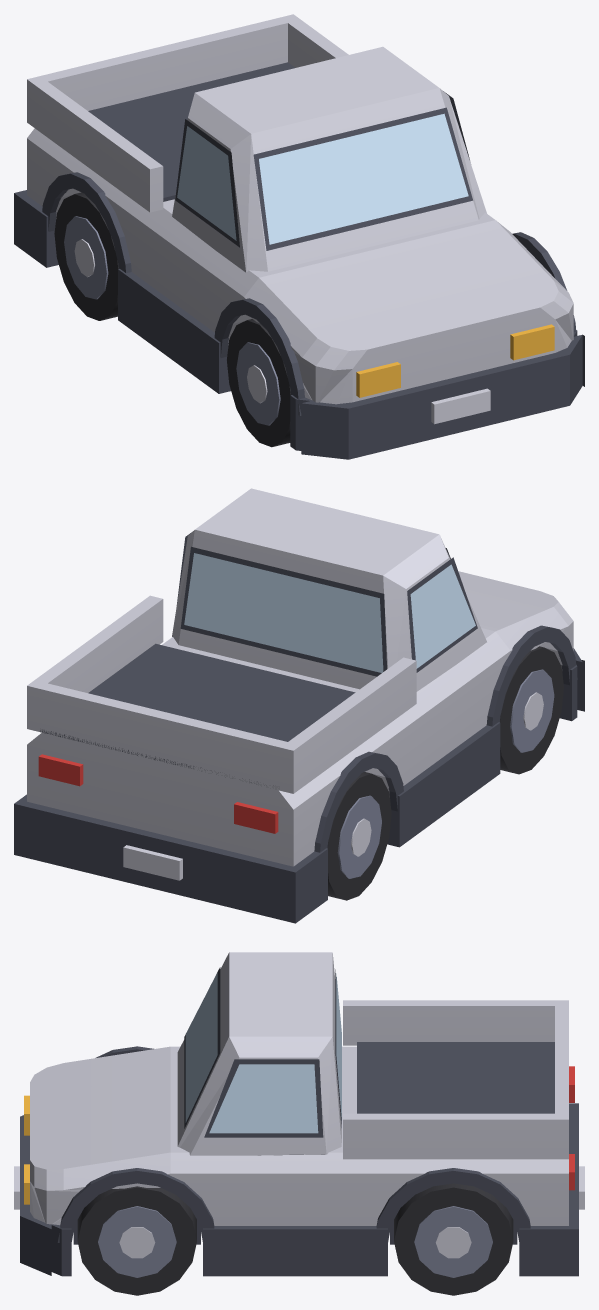
The model's file is silver-pickup.glb.
The picture shows the model from 3 angles, top to bottom: view 1: azimuth 30°, elevation 25°; view 2: azimuth 150°, elevation 25°; view 3: azimuth 270°, elevation 25°; orthographic projection. The views are drawn at different scales.
Parts seen in each view (by area): view 1: shoulder, cabin, windows, lower, bumper-front, tailgate, bed-wall (×2), skirt (×3), tire (×2), bed-floor, flare (×3), window-frames (+5 smaller); view 2: cabin, lower, windows, bumper-back, shoulder, bed-floor, bed-wall (×2), tailgate, skirt (×3), tire (×2), flare (×2), rim (×2) (+4 smaller); view 3: shoulder, bed-wall (×2), cabin, lower, bed-floor, tire (×2), skirt (×3), windows, rim (×2), flare (×2), window-frames, bumper-front (+3 smaller).
Boxes of the visible parts, box(x1,y1,x2,y2) form: shoulder: box(27, 128, 573, 370); cabin: box(172, 46, 486, 272); windows: box(177, 113, 468, 244); lower: box(27, 138, 573, 404); bumper-front: box(301, 334, 584, 459); tailgate: box(27, 15, 300, 127); bed-wall (×2): box(27, 14, 348, 212); skirt (×3): box(19, 195, 577, 450); tire (×2): box(54, 192, 290, 447); bed-floor: box(88, 62, 295, 201); flare (×3): box(42, 172, 576, 415); window-frames: box(175, 91, 472, 250); cabin: box(172, 488, 486, 691); lower: box(27, 621, 573, 866); windows: box(184, 553, 475, 672); bumper-back: box(14, 794, 304, 923); shoulder: box(27, 571, 573, 809); bed-floor: box(40, 643, 355, 785); bed-wall (×2): box(27, 595, 416, 793); tailgate: box(27, 683, 300, 793); skirt (×3): box(19, 665, 577, 919); tire (×2): box(327, 646, 563, 900); flare (×2): box(314, 625, 577, 852); rim (×2): box(337, 669, 554, 878); shoulder: box(30, 1046, 568, 1190); bed-wall (×2): box(343, 1000, 568, 1159); cabin: box(177, 952, 341, 1155); lower: box(30, 1173, 568, 1225); bed-floor: box(357, 1042, 554, 1113); tire (×2): box(77, 1183, 513, 1295); skirt (×3): box(30, 1212, 568, 1276); windows: box(185, 972, 341, 1133); rim (×2): box(98, 1206, 492, 1277); flare (×2): box(57, 1168, 530, 1242); window-frames: box(184, 967, 341, 1137); bumper-front: box(20, 1115, 51, 1275).
Size of the model in its own units: 1.5 by 1.33 by 2.87.
